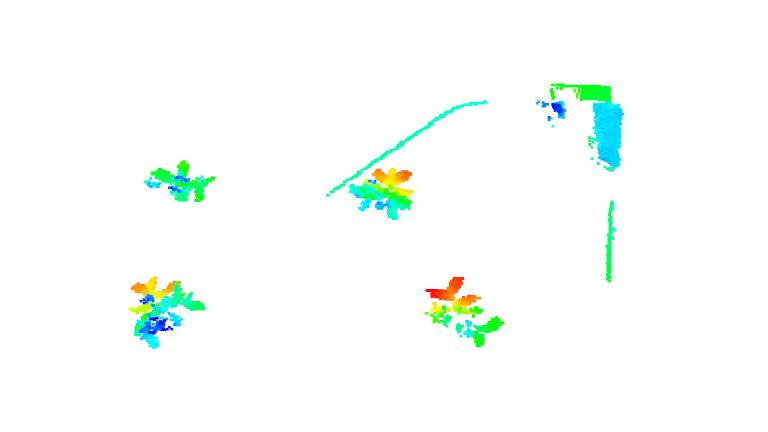chickpea: (124, 276, 206, 349), (423, 277, 505, 347), (350, 167, 413, 222), (148, 159, 216, 204)
